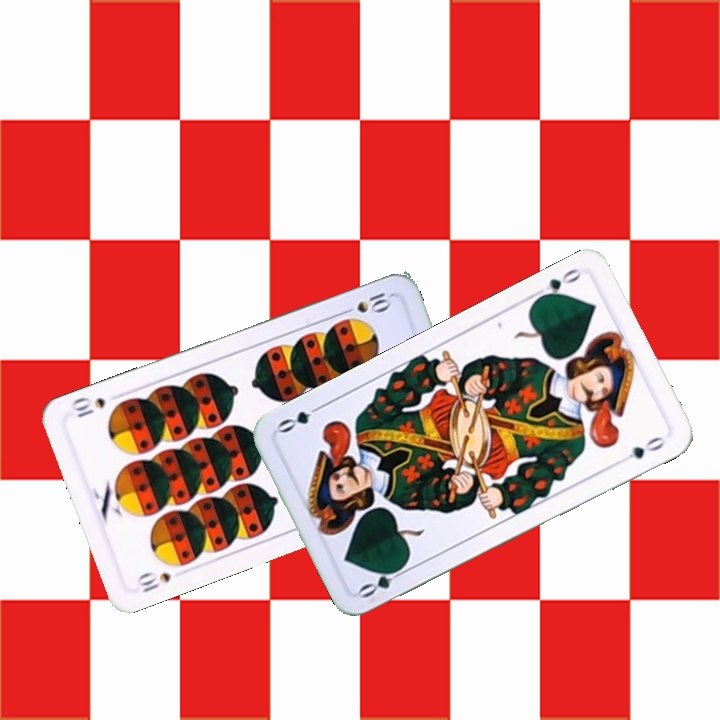GO: (355, 560, 411, 601), (528, 264, 584, 304)
S10: (337, 288, 394, 318), (134, 567, 174, 595)
